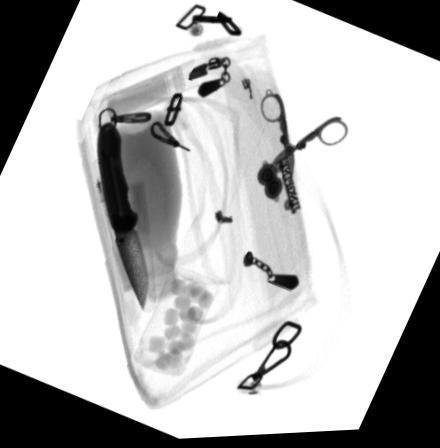Knife: (97, 119, 148, 315)
Scissors: (257, 94, 349, 184)
